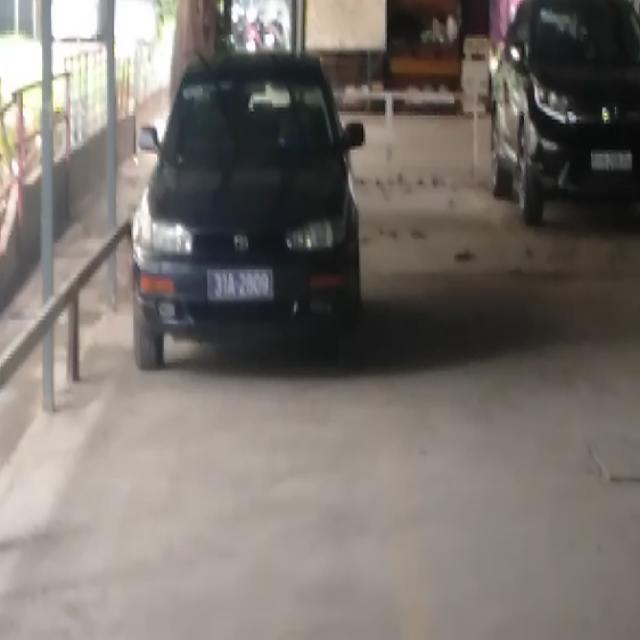bien_xanh: (209, 264, 274, 298)
